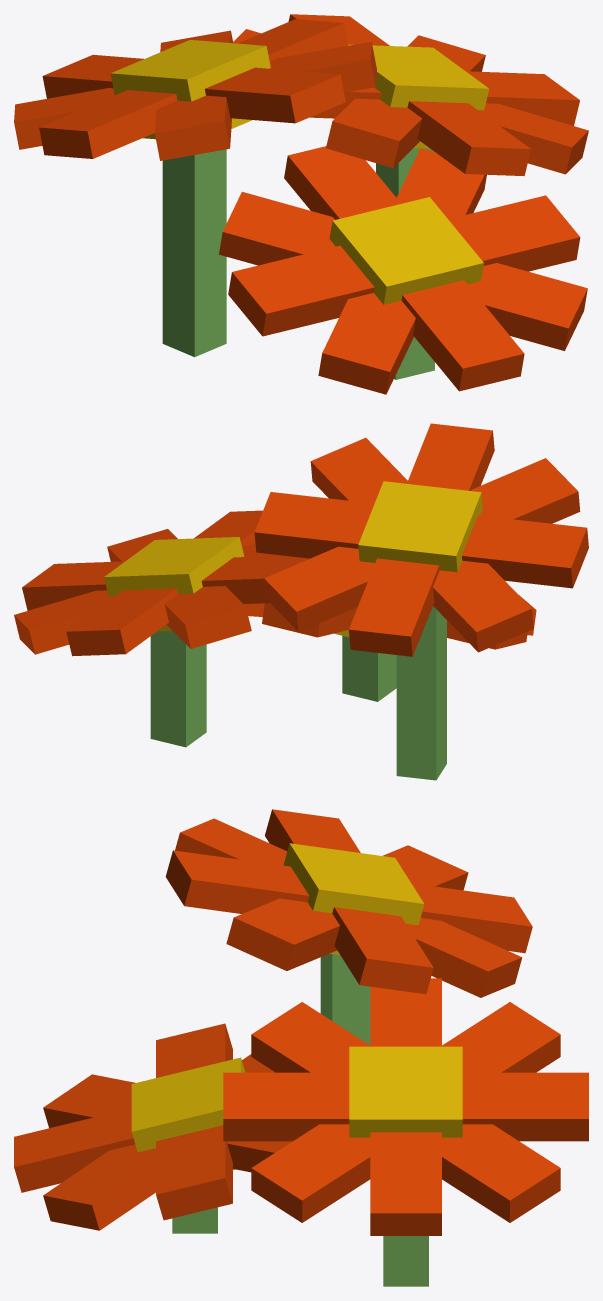
File: SM_Flower_01_B.fbx
3 renders of one model, top to bottom at view 1: azimuth 30°, elevation 25°; view 2: azimuth 150°, elevation 25°; view 3: azimuth 270°, elevation 25°, orthographic. The views are drawn at different scales.
Parts seen in each view (by area): view 1: pCube434; view 2: pCube434; view 3: pCube434.
Boxes of the visible parts, x1=… form: pCube434: x1=14, y1=14, x2=588, y2=394; pCube434: x1=14, y1=423, x2=588, y2=780; pCube434: x1=14, y1=809, x2=588, y2=1286.
Bounding box in the file's own units: 34.65 × 18.42 × 30.73.
